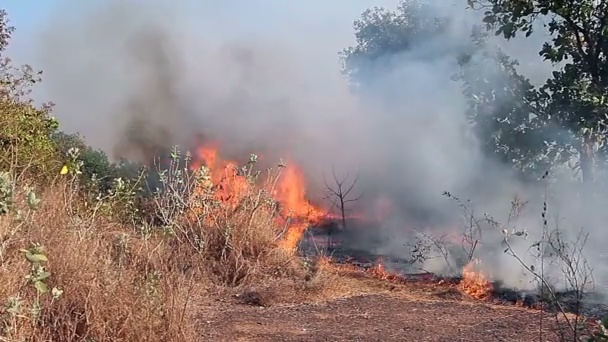fire: (275, 166, 319, 243), (200, 150, 240, 203), (464, 272, 486, 292), (62, 167, 67, 173)
